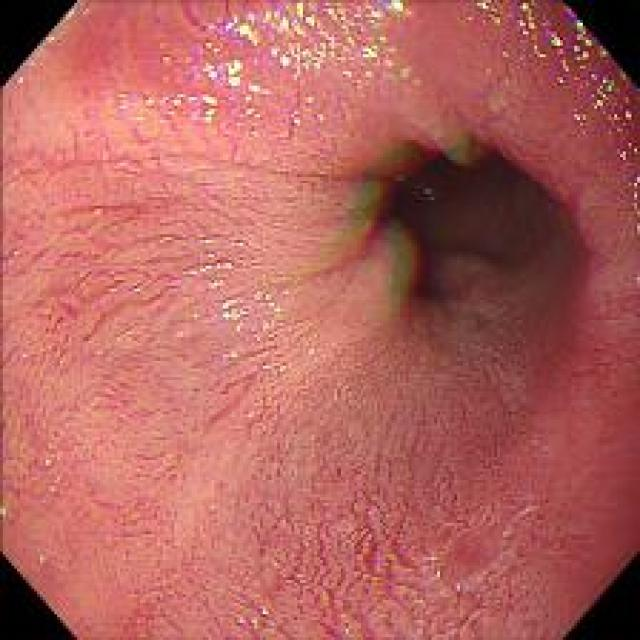color misalignment: (190, 0, 414, 85), (114, 81, 330, 131), (350, 135, 415, 284), (504, 22, 615, 68), (540, 50, 635, 99), (570, 68, 636, 138), (478, 2, 592, 40), (606, 106, 638, 211), (425, 178, 438, 204)
contrast: (352, 118, 515, 319)
specularity: (192, 2, 411, 85), (118, 84, 328, 131), (584, 56, 639, 169), (531, 31, 628, 94), (506, 20, 598, 68), (471, 1, 576, 36), (215, 286, 289, 334), (191, 232, 241, 288), (228, 600, 278, 629), (26, 29, 61, 66), (422, 548, 451, 585), (569, 100, 595, 136), (218, 348, 240, 362), (260, 362, 286, 372), (171, 328, 188, 339), (15, 74, 26, 85)
